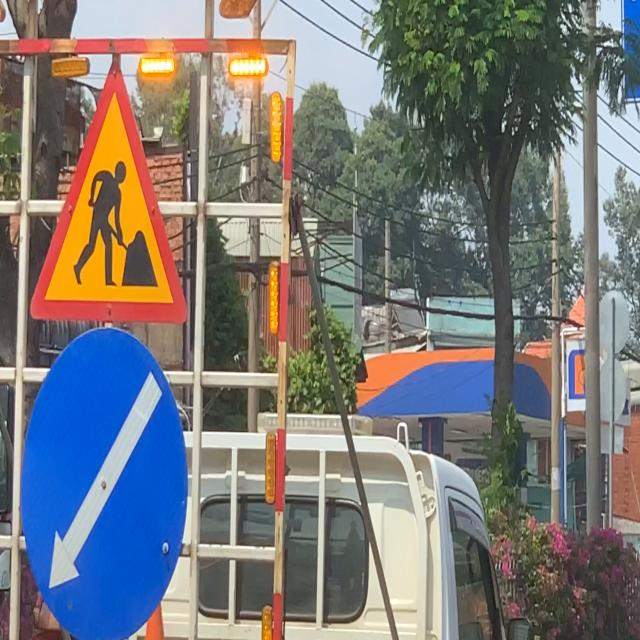Hieu lenh: (20, 326, 188, 640)
Nguy hiem: (25, 58, 190, 330)
